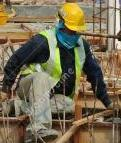boots: (24, 127, 58, 143), (0, 2, 13, 19)
hard-hat: (58, 2, 87, 31)
mask: (56, 26, 81, 48)
vest: (1, 24, 103, 108)
